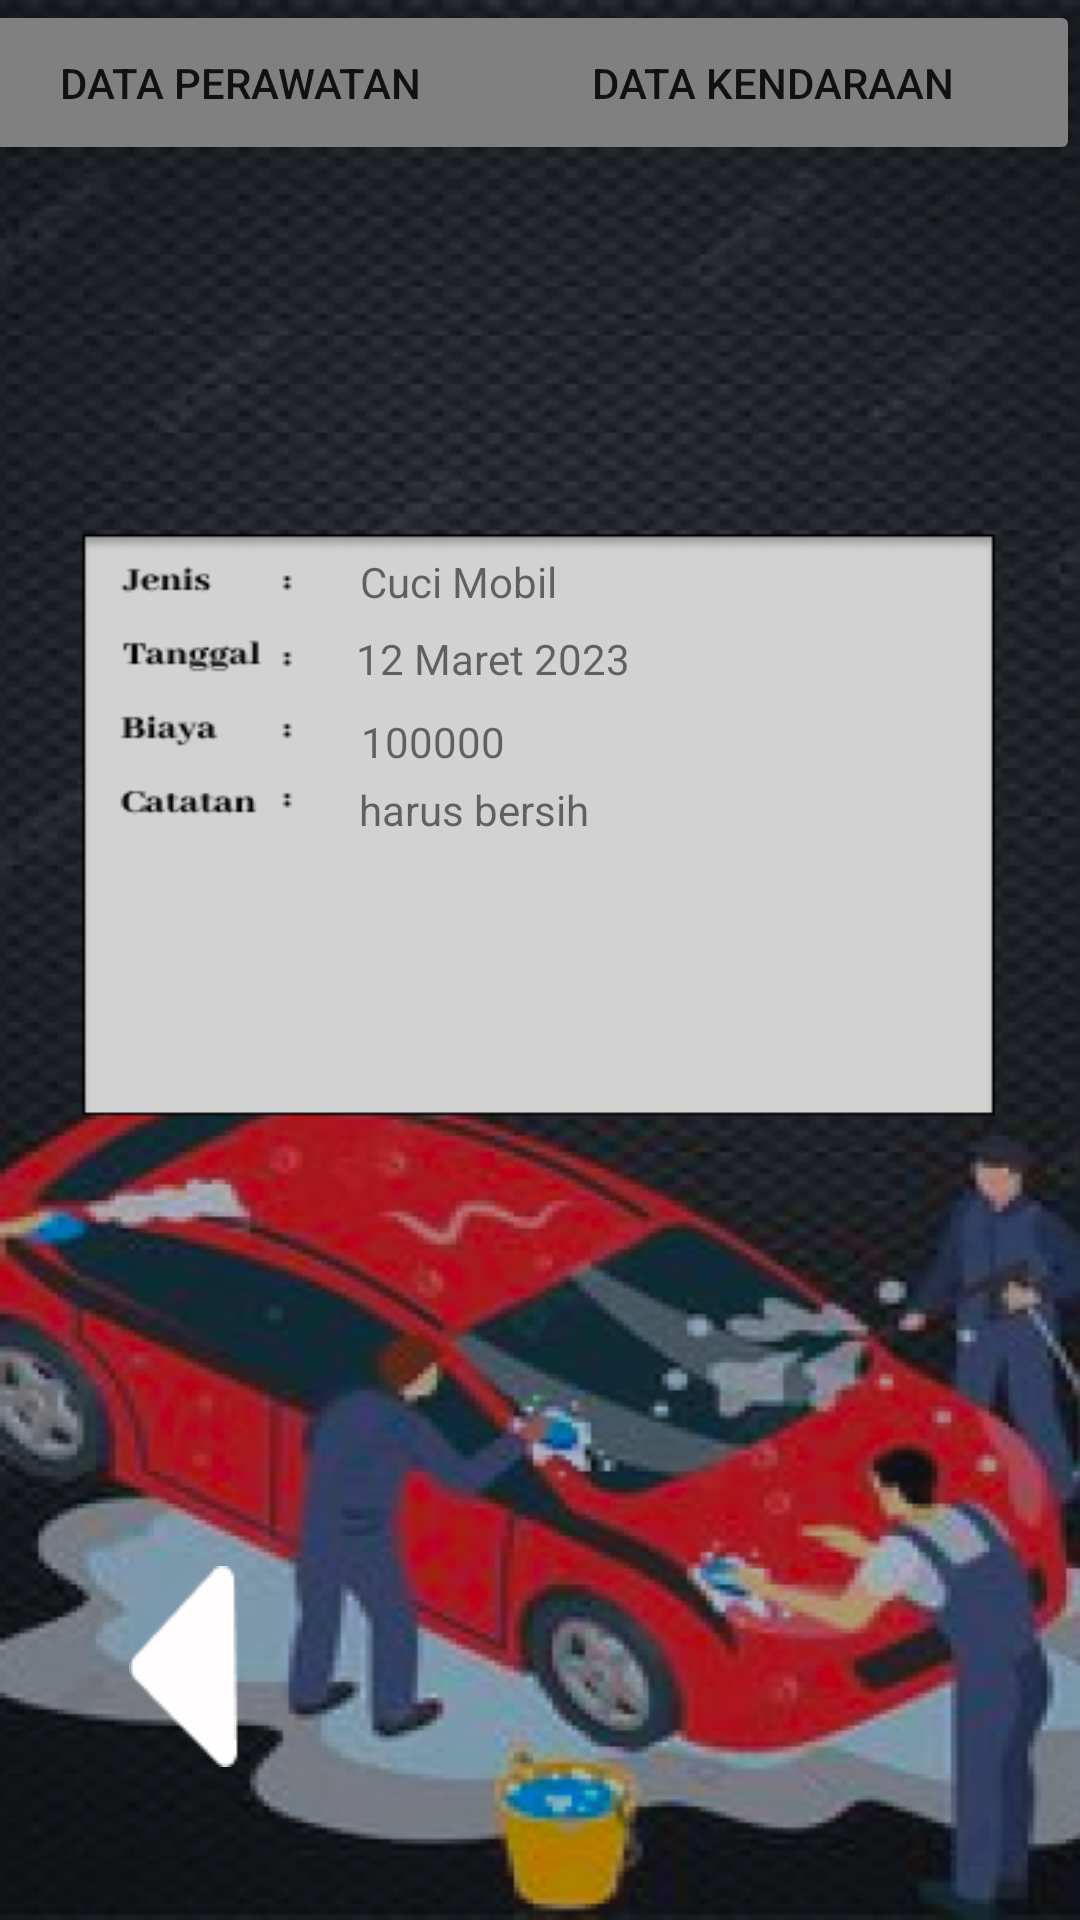

Where to tap for icons on this 1080x1920 app screen, as (x,y):
back: (184,1666)
